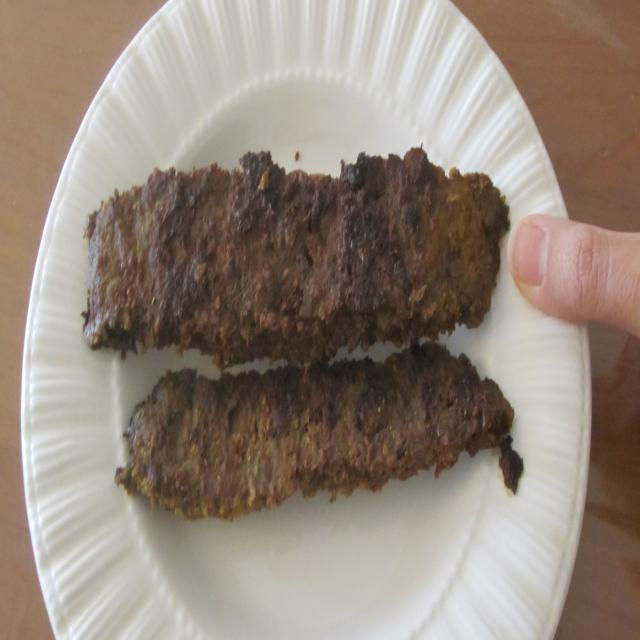cutlet: (71, 137, 515, 531)
